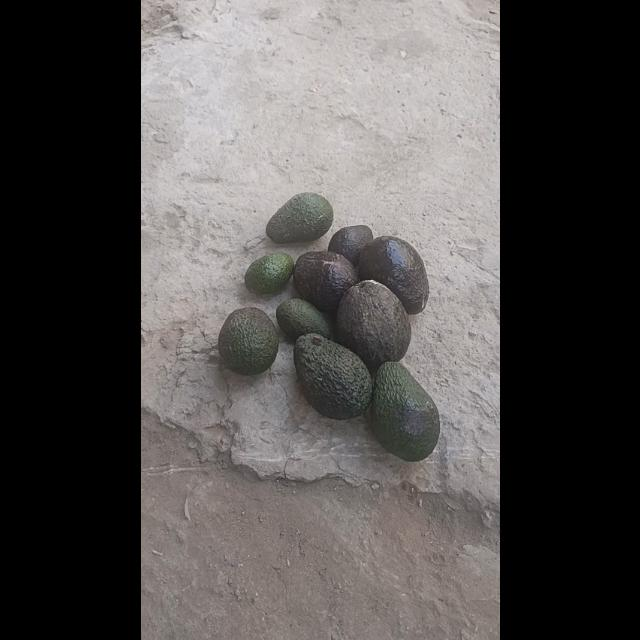Primera: (368, 359, 439, 458), (334, 280, 410, 370), (292, 332, 370, 418), (358, 235, 428, 313), (292, 250, 358, 312)
Segunda: (216, 306, 278, 374), (266, 191, 332, 243)
Tercera: (275, 298, 331, 342), (243, 253, 293, 294), (326, 225, 374, 267)
